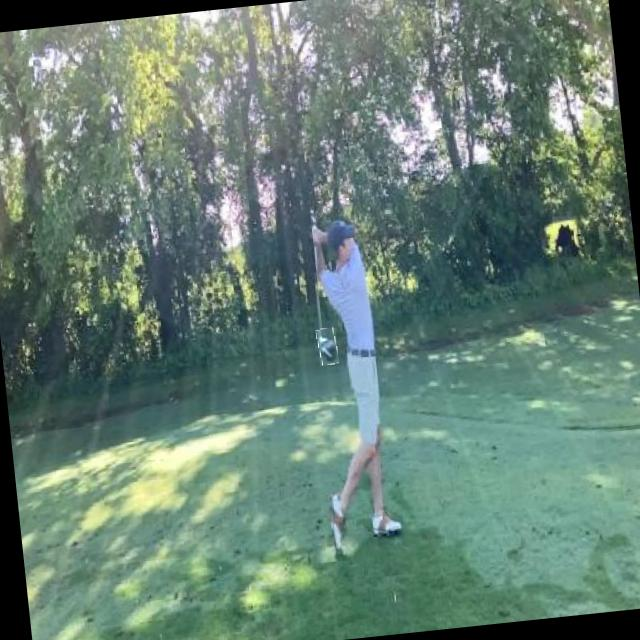club head: (316, 328, 339, 366)
